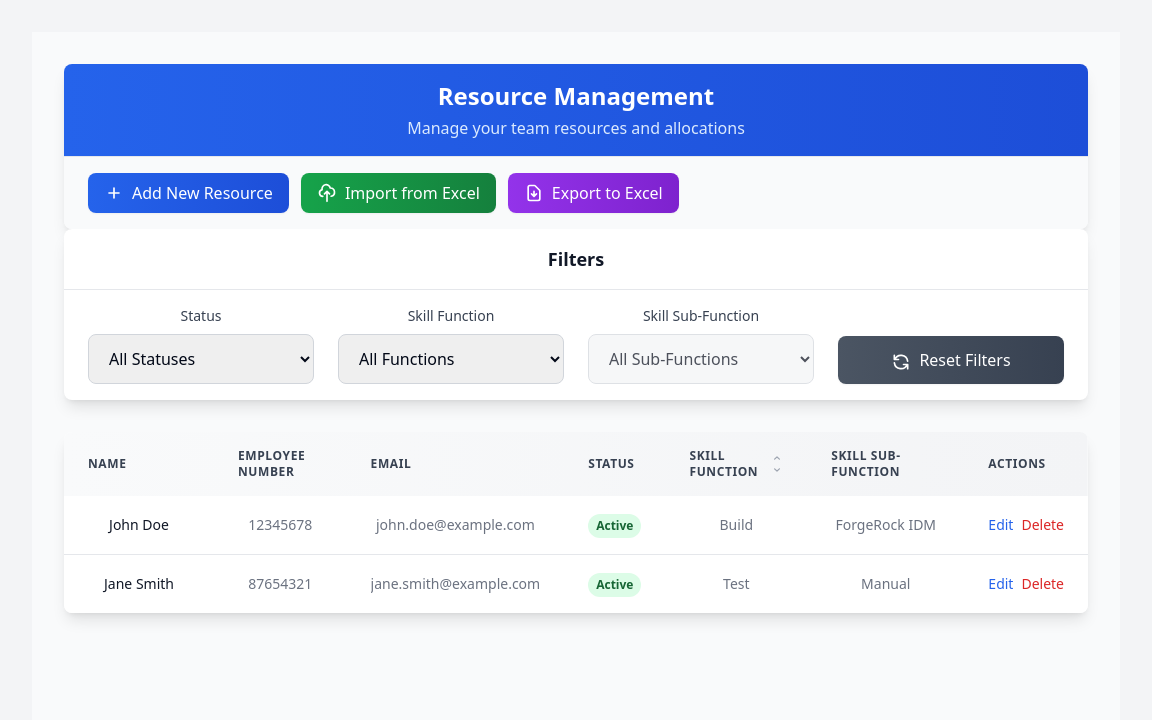
Test: ResourceListPage › Resource Deletion › should handle deletion conflict error
The width and height of the screenshot is (1152, 720).
# Click delete button (first one from table view)
Step 1. Click the button "Delete" in the row of "John Doe" → click(1043, 525), box [1021, 515, 1064, 535]
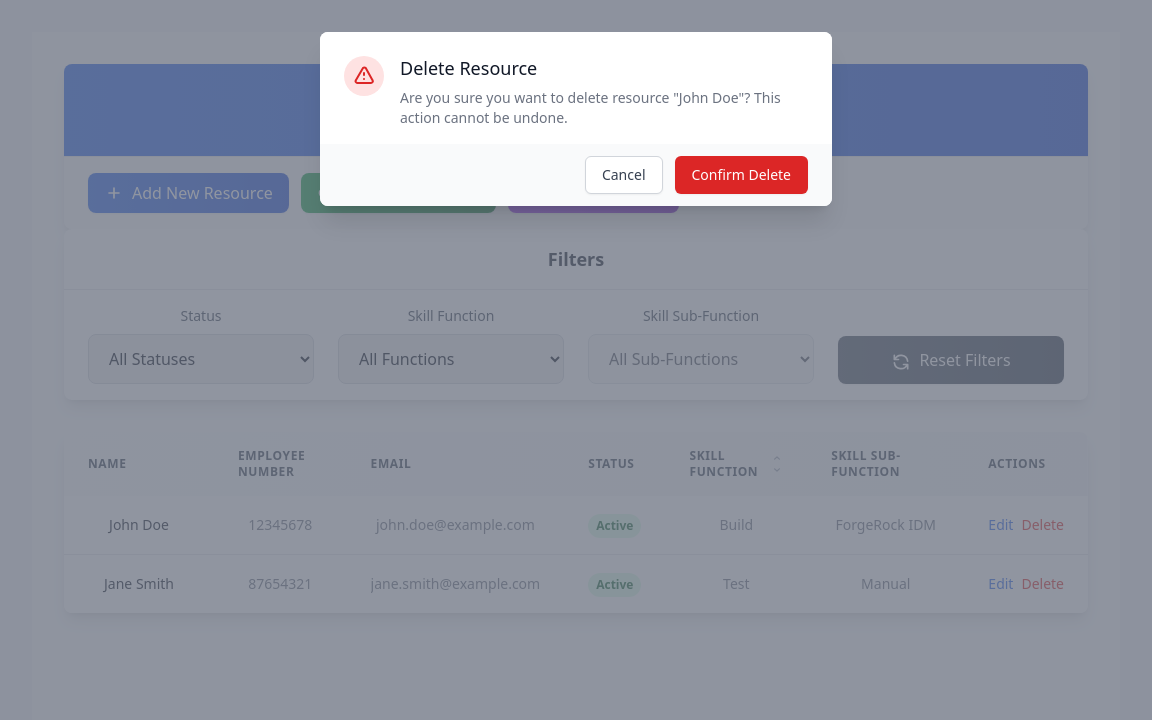
# Confirm deletion
Step 2. Click the button "Confirm Delete" → click(741, 175), box [674, 156, 808, 194]
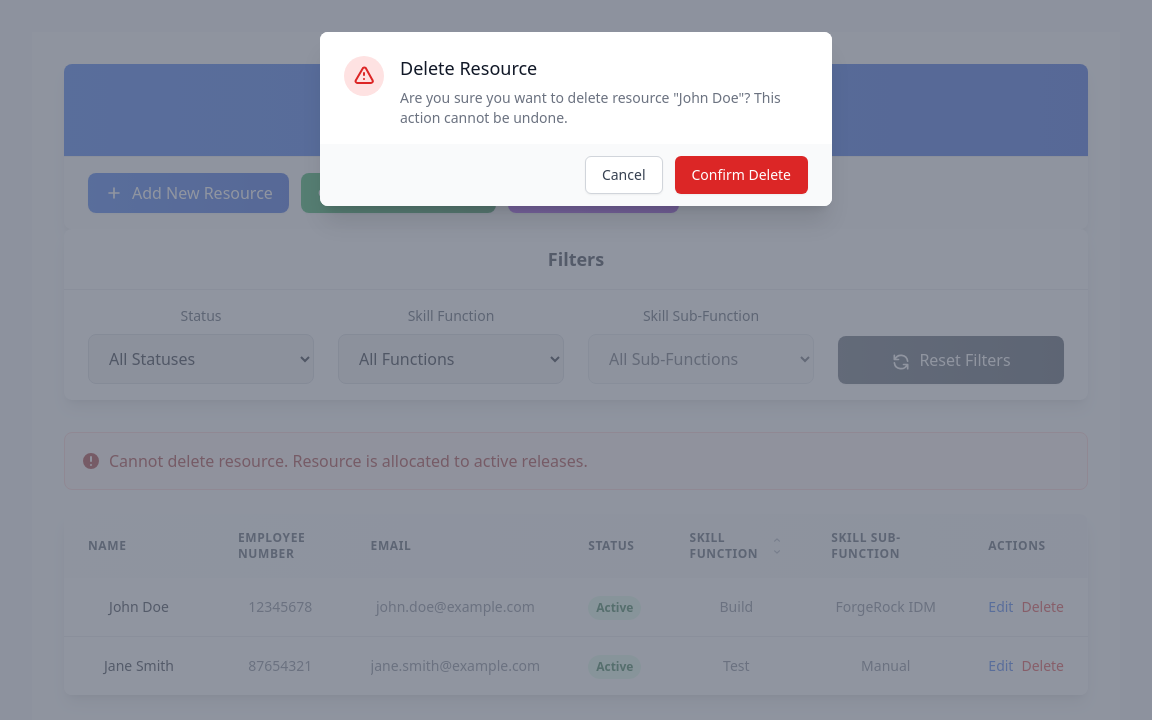
Check: the text "allocated to active releases" is shown, box [109, 450, 588, 472]
